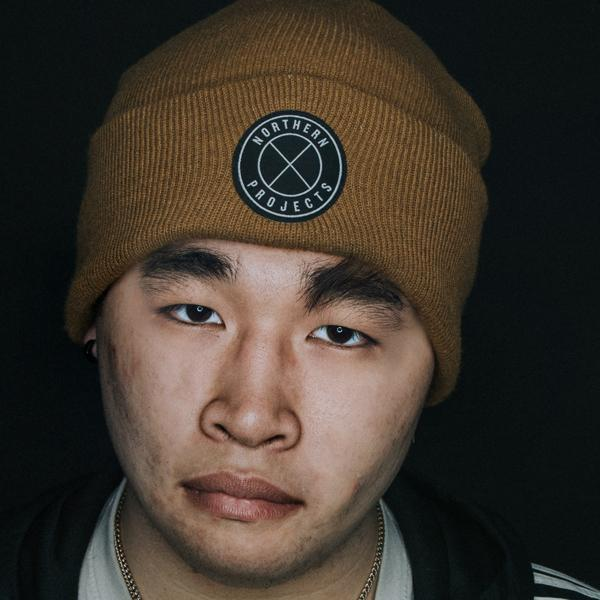Eyes: (296, 306, 388, 366), (148, 284, 232, 341)
